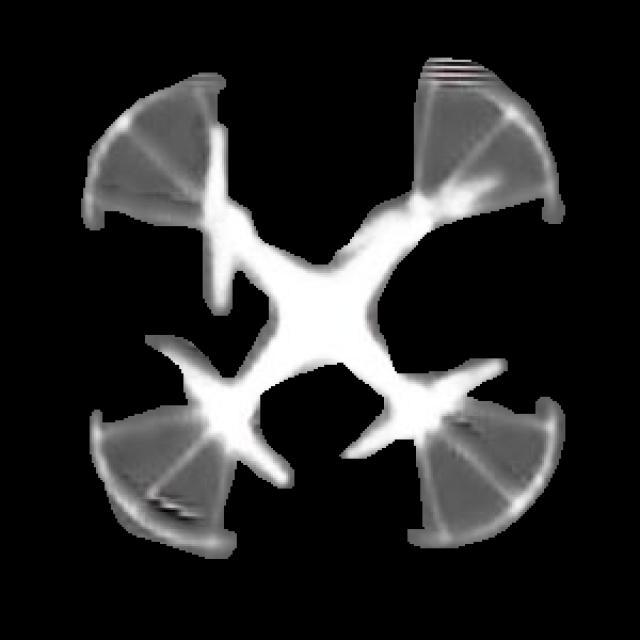drone: (51, 30, 590, 578)
